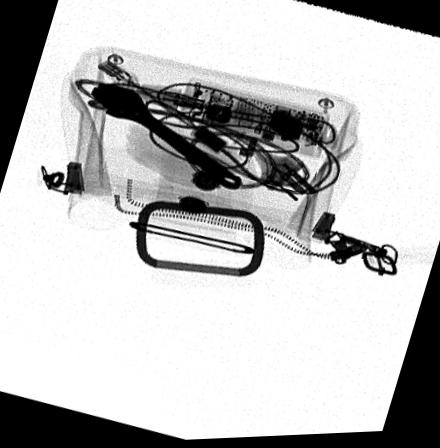Wrench: (86, 80, 243, 193)
